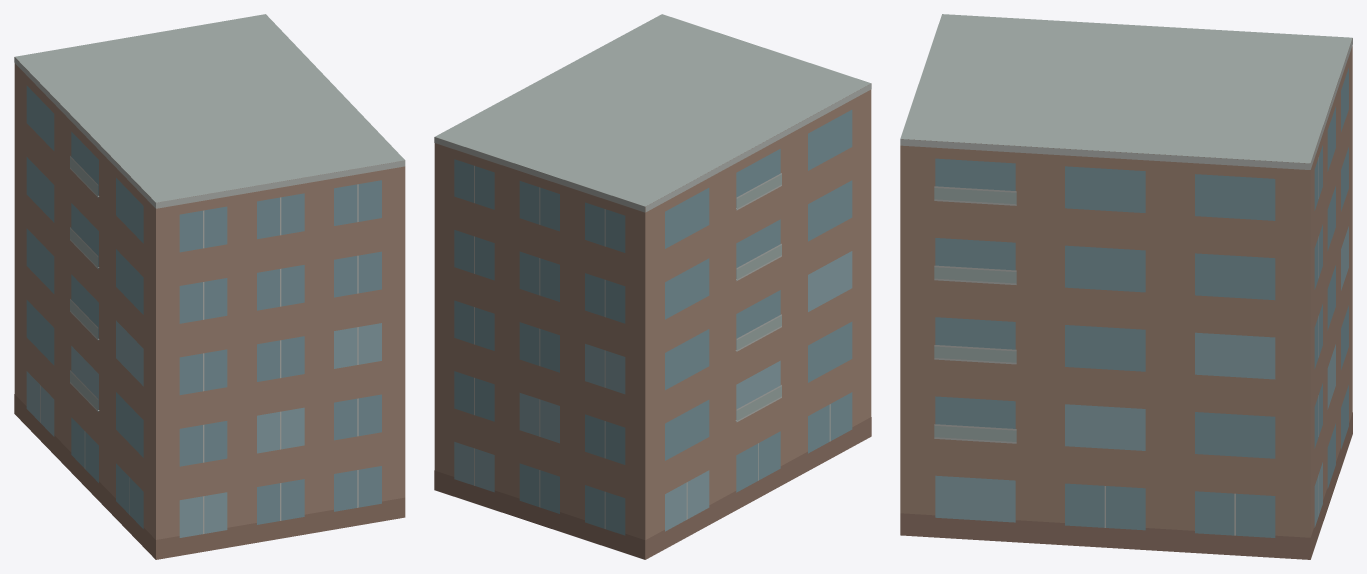
The model's file is survey-upis-32883471.glb.
3 views of the same model, side by side, from view 1: azimuth 30°, elevation 25°; view 2: azimuth 150°, elevation 25°; view 3: azimuth 270°, elevation 25° (orthographic). The views are drawn at different scales.
Visible parts, largest first — view 1: survey-upis-32883471.tmp; view 2: survey-upis-32883471.tmp; view 3: survey-upis-32883471.tmp.
Boxes of the visible parts, <box> form: survey-upis-32883471.tmp: <box>14,14,405,559</box>; survey-upis-32883471.tmp: <box>434,14,871,559</box>; survey-upis-32883471.tmp: <box>900,14,1352,559</box>.
Size of the model in its own units: 11.65 by 14.4 by 14.91.
